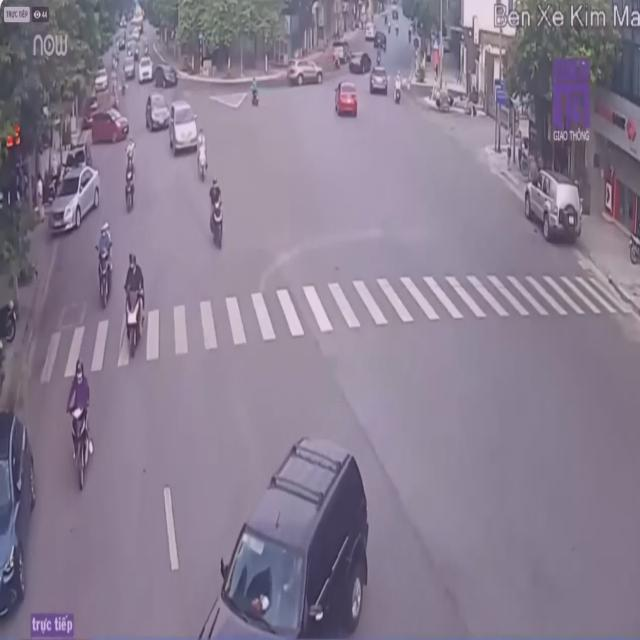car: (193, 436, 375, 640), (0, 412, 38, 628), (524, 168, 582, 242), (49, 163, 100, 238), (168, 101, 205, 158), (334, 82, 360, 122), (145, 92, 170, 132)
motorbike: (64, 360, 97, 494), (122, 252, 149, 352), (93, 221, 114, 303), (204, 175, 224, 253), (124, 154, 138, 212)
